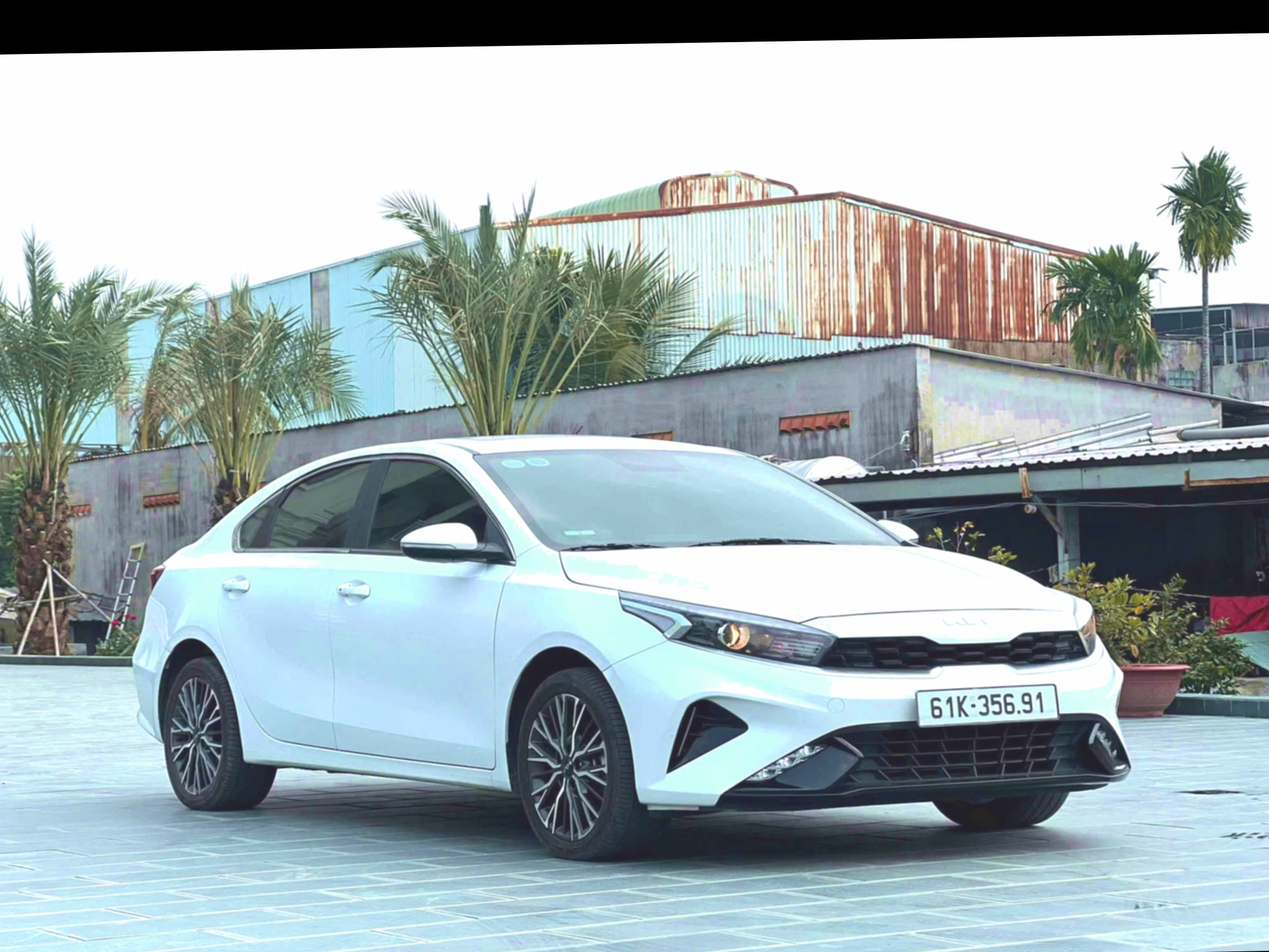Bien-so: (901, 638, 1045, 687)
